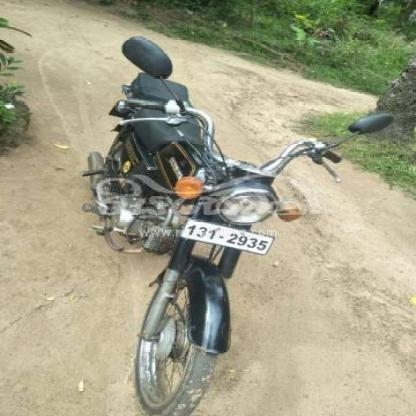bike front: (73, 25, 402, 416)
number plate: (181, 218, 273, 255)
